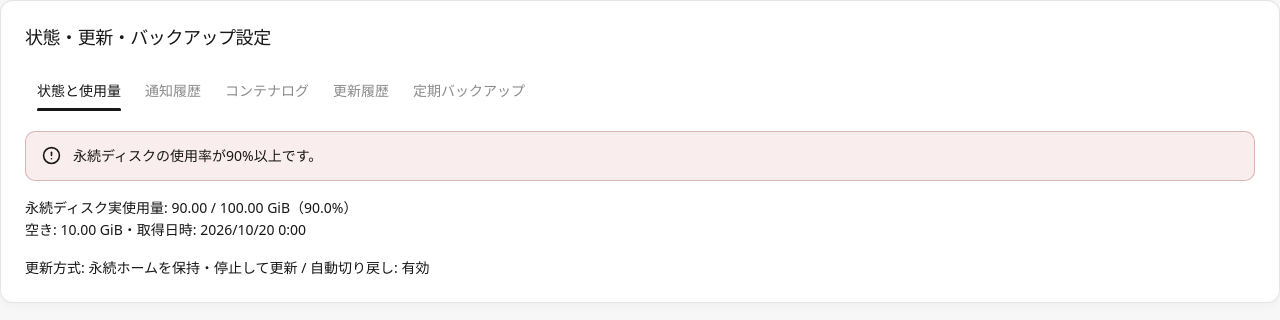
it: FlashOperationsPanel › keeps rollback and backup settings read-only in service details
The image size is (1280, 320).
Click the tab "更新履歴". click: (361, 91)
box: [321,71,401,111]
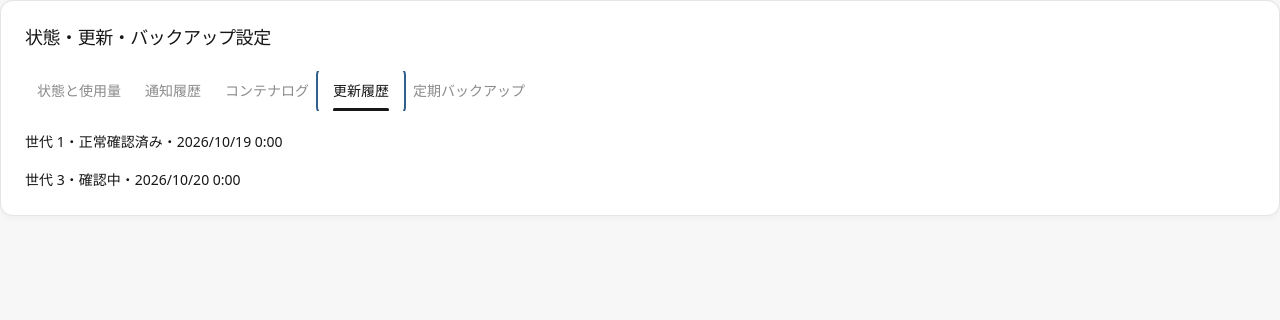
Expected: the text "世代 1・正常確認済み・2026/10/19 0:00" is shown, [25,132,283,151]
Click the tab "定期バックアップ". click: (469, 91)
box: [401,71,537,111]
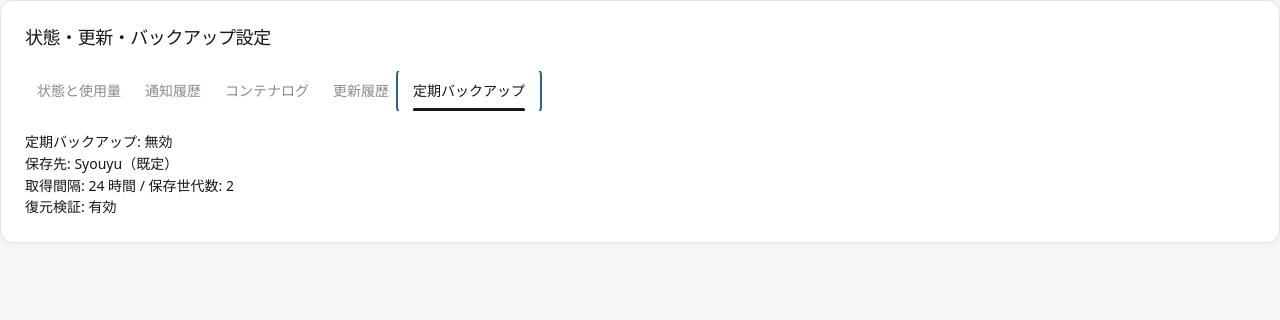
Expected: the text "定期バックアップ:" is shown, [25,132,144,151]
